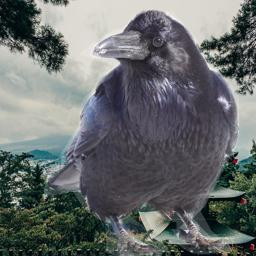Crow: (44, 6, 239, 256)
